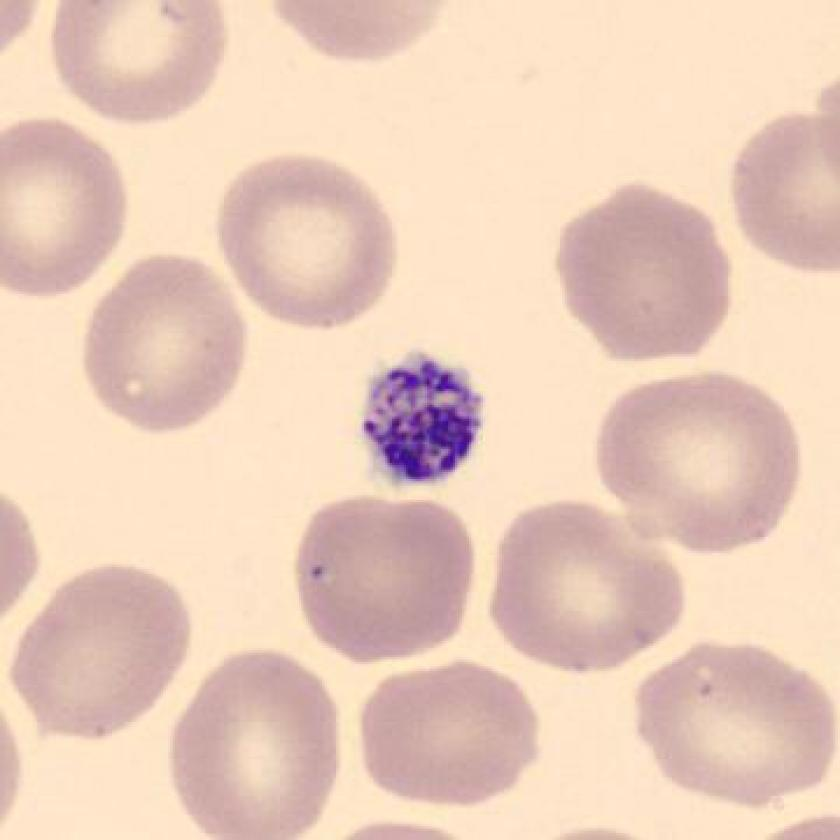platelets: (353, 341, 491, 496)
